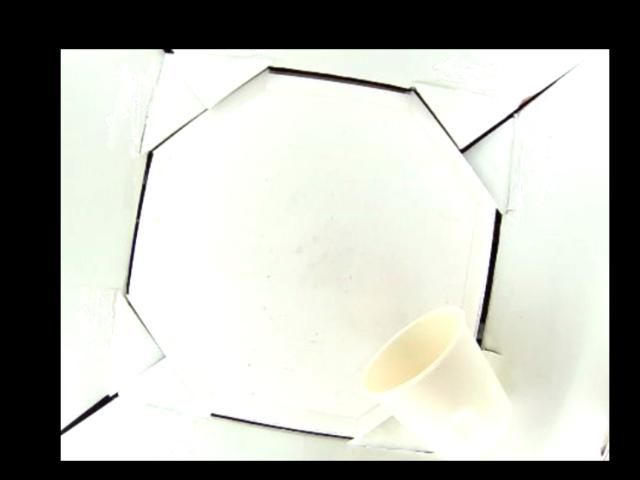Cup: (362, 308, 513, 460)
